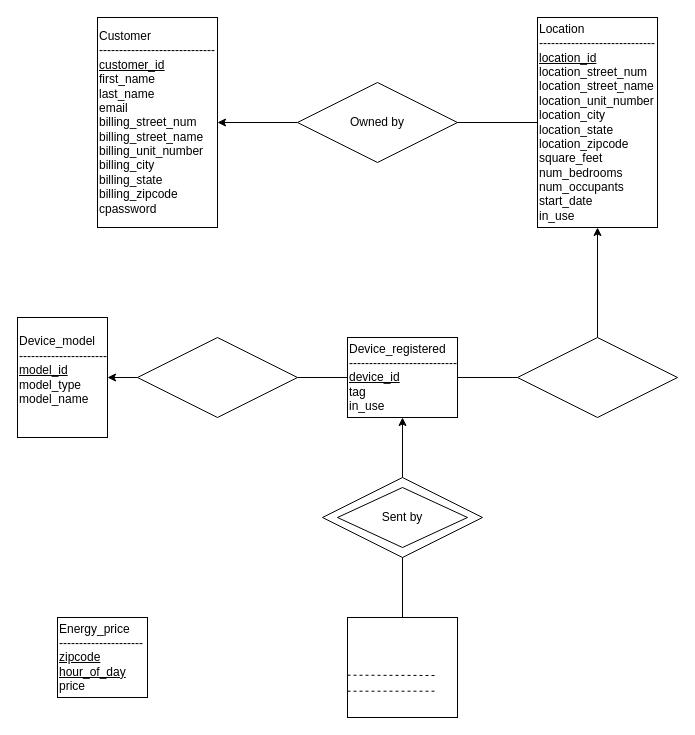
Image size: 695x735. Some labels were removed from this diagram. The shapes that lost their labels are listed below. From the top down, each one's centre as x and y in pixels, then its label:
At point (217, 377): "Belong to".
At point (597, 377): "Placed at".
At point (402, 667): "Device_event --------------------------- event_datetime event_label event_number".
